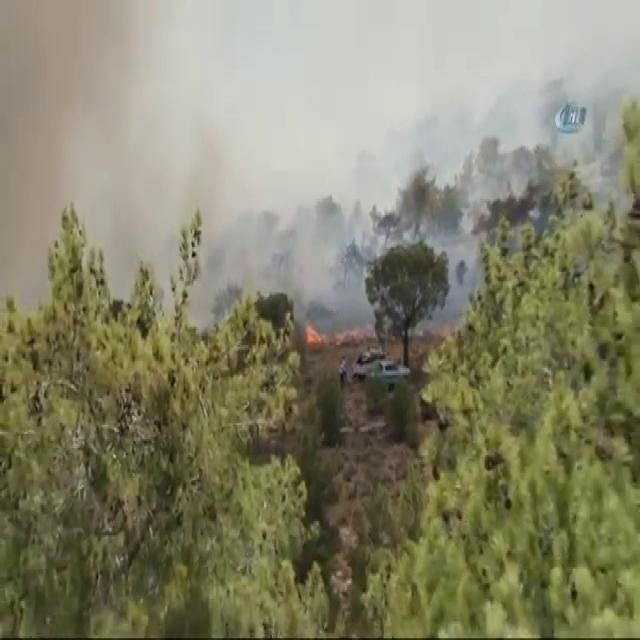Fire: (304, 310, 376, 349)
Smoke: (0, 0, 188, 297), (196, 137, 292, 286)
